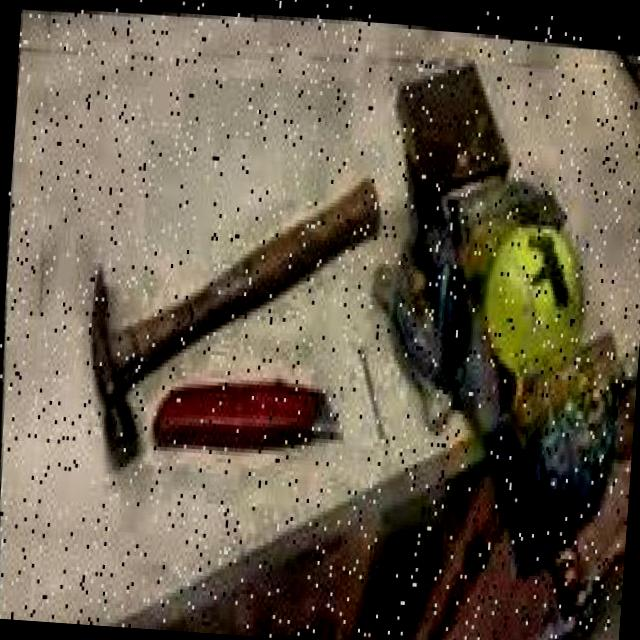Tennis Ball: (475, 212, 590, 398)
